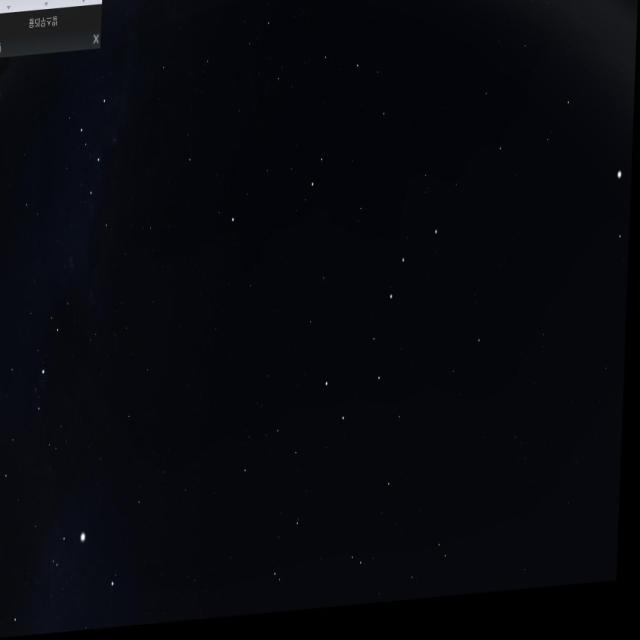cassiopeia: (76, 75, 138, 260)
ursa_major: (324, 219, 443, 438)
